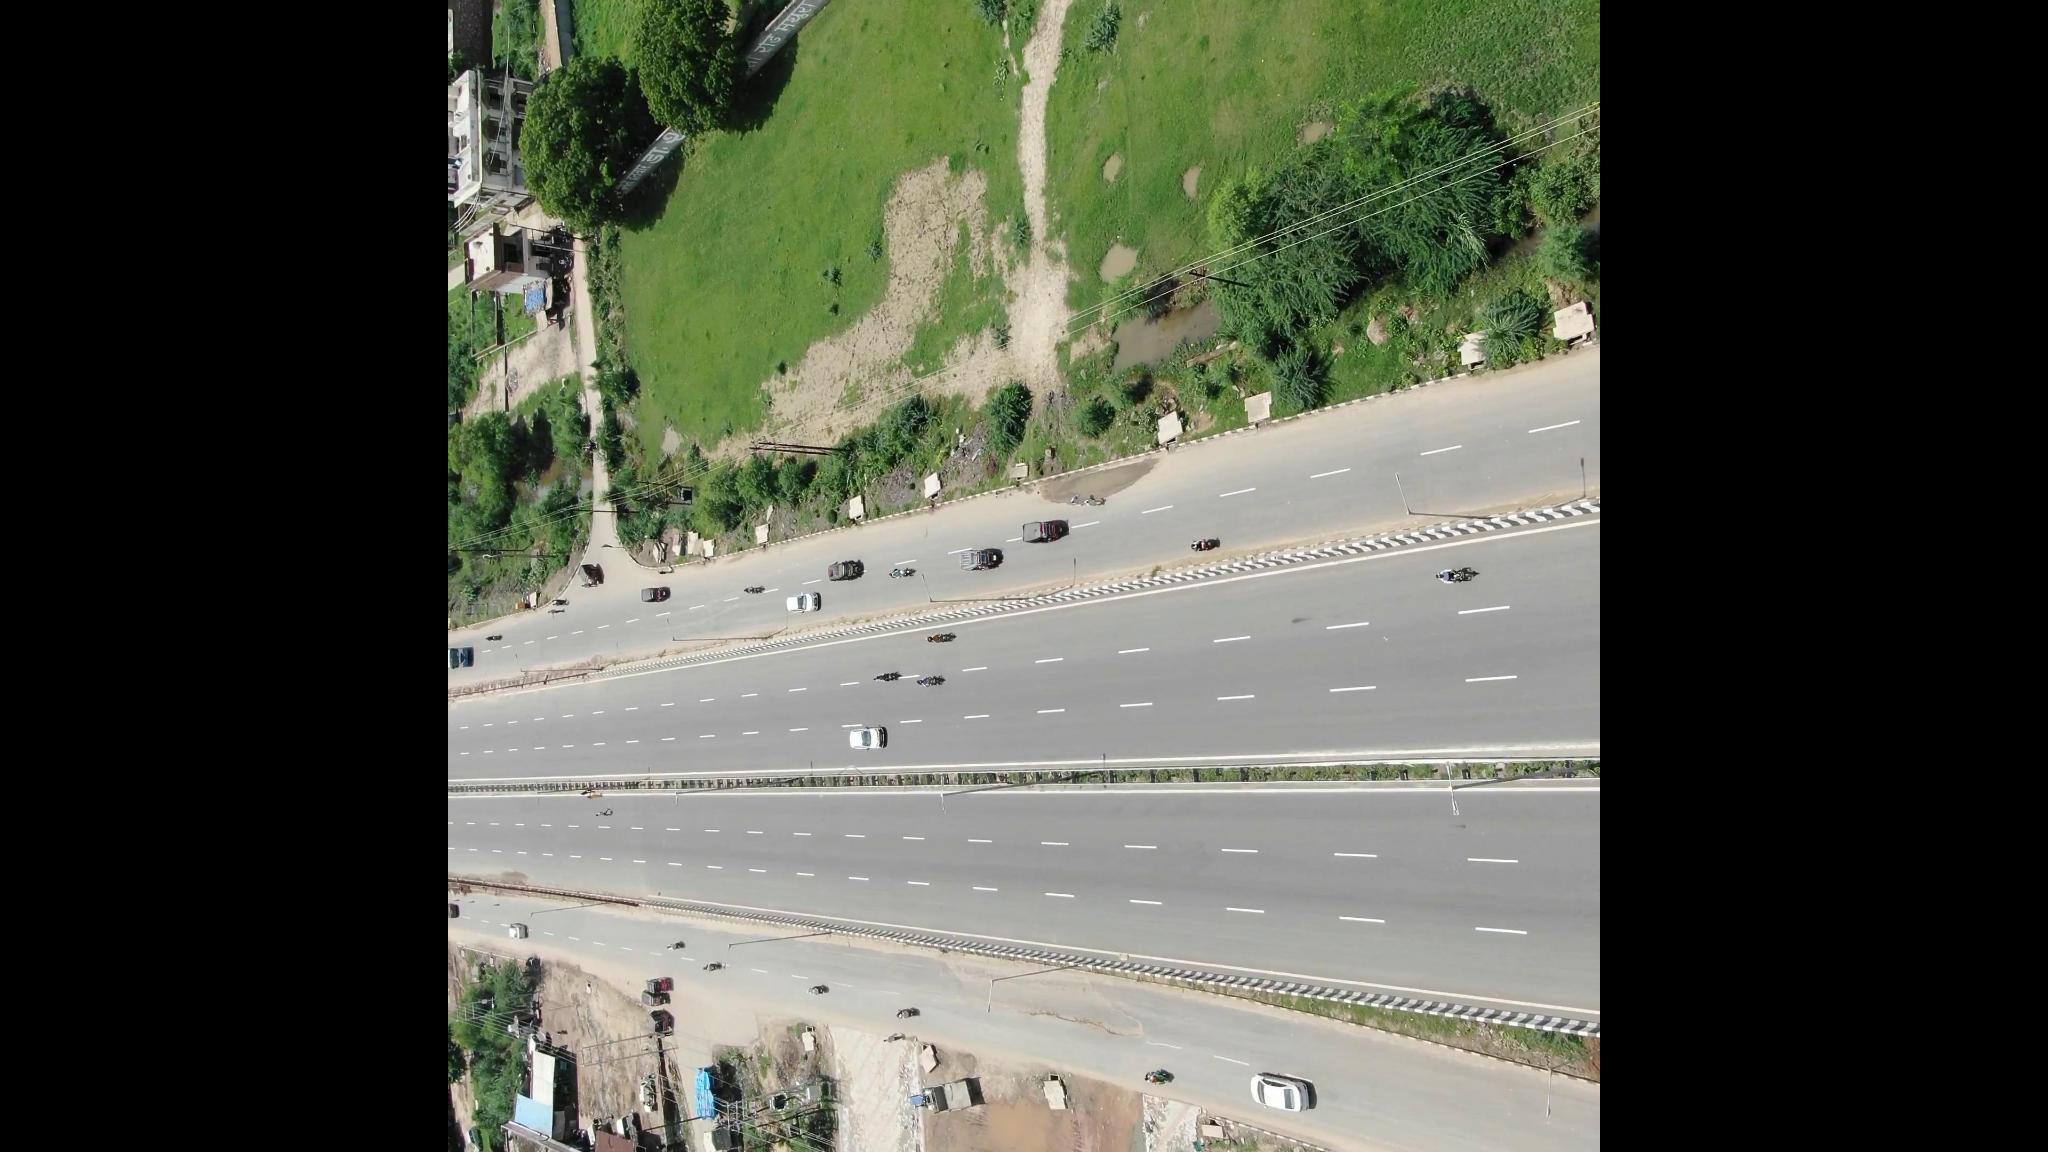Cracks: (1016, 1007, 1135, 1044)
